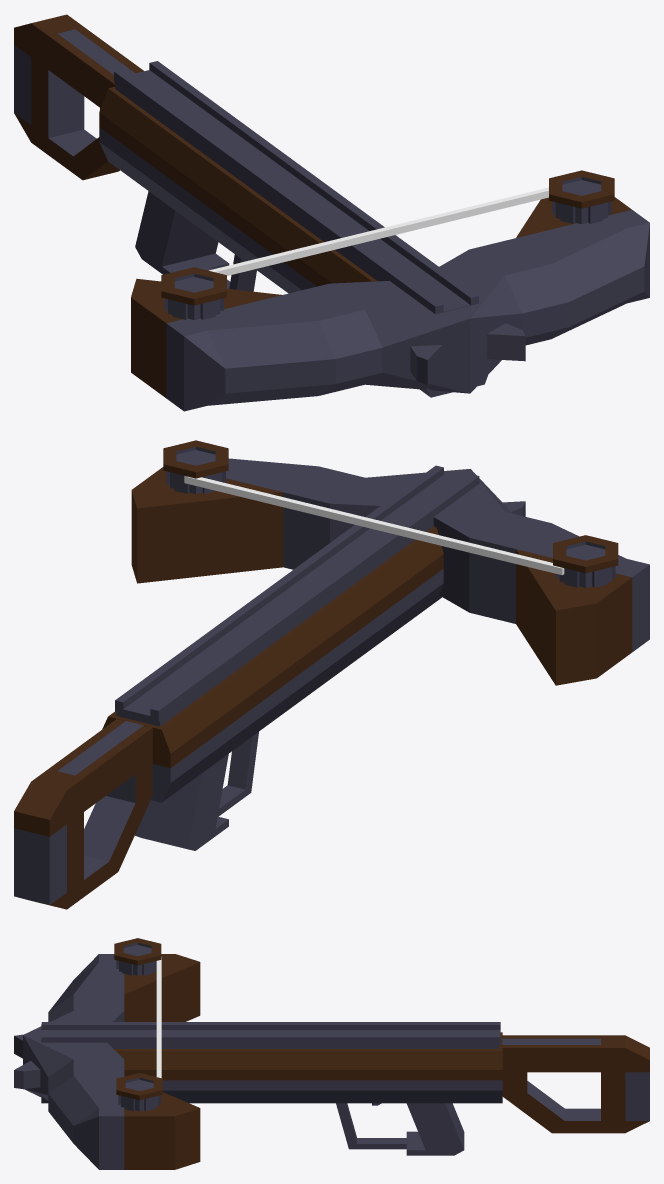
File: crossbow-concept-1.fbx
The picture shows the model from 3 angles, top to bottom: view 1: azimuth 30°, elevation 25°; view 2: azimuth 150°, elevation 25°; view 3: azimuth 270°, elevation 25°; orthographic projection. The views are drawn at different scales.
Parts seen in each view (by area): view 1: stock_solid (×2), detailRail (×2), mediumBlaster_handleGuardSmall, stock_tactical, mediumBlaster_center, clipBarrel (×2), block_quarter; view 2: stock_solid (×2), detailRail (×2), stock_tactical, mediumBlaster_handleGuardSmall, mediumBlaster_center, clipBarrel (×2), block_quarter; view 3: stock_solid (×2), mediumBlaster_handleGuardSmall, detailRail (×2), stock_tactical, mediumBlaster_center, clipBarrel (×2), block_quarter.
Part boxes in pixels (x1=…): stock_solid (×2): x1=131, y1=197, x2=649, y2=411; detailRail (×2): x1=114, y1=61, x2=478, y2=314; mediumBlaster_handleGuardSmall: x1=99, y1=86, x2=256, y2=291; stock_tactical: x1=14, y1=14, x2=143, y2=180; mediumBlaster_center: x1=233, y1=186, x2=377, y2=293; clipBarrel (×2): x1=161, y1=170, x2=614, y2=319; block_quarter: x1=209, y1=187, x2=548, y2=275; stock_solid (×2): x1=131, y1=458, x2=649, y2=685; detailRail (×2): x1=115, y1=465, x2=479, y2=726; stock_tactical: x1=14, y1=719, x2=152, y2=909; mediumBlaster_handleGuardSmall: x1=102, y1=630, x2=304, y2=850; mediumBlaster_center: x1=292, y1=539, x2=439, y2=703; clipBarrel (×2): x1=163, y1=440, x2=618, y2=587; block_quarter: x1=184, y1=476, x2=564, y2=575; stock_solid (×2): x1=14, y1=954, x2=200, y2=1169; mediumBlaster_handleGuardSmall: x1=310, y1=1032, x2=502, y2=1155; detailRail (×2): x1=41, y1=1022, x2=500, y2=1048; stock_tactical: x1=500, y1=1035, x2=649, y2=1133; mediumBlaster_center: x1=118, y1=1049, x2=310, y2=1103; clipBarrel (×2): x1=114, y1=938, x2=162, y2=1111; block_quarter: x1=156, y1=957, x2=161, y2=1078.
Bounding box in the file's own units: 20 × 7.41 × 33.1.
